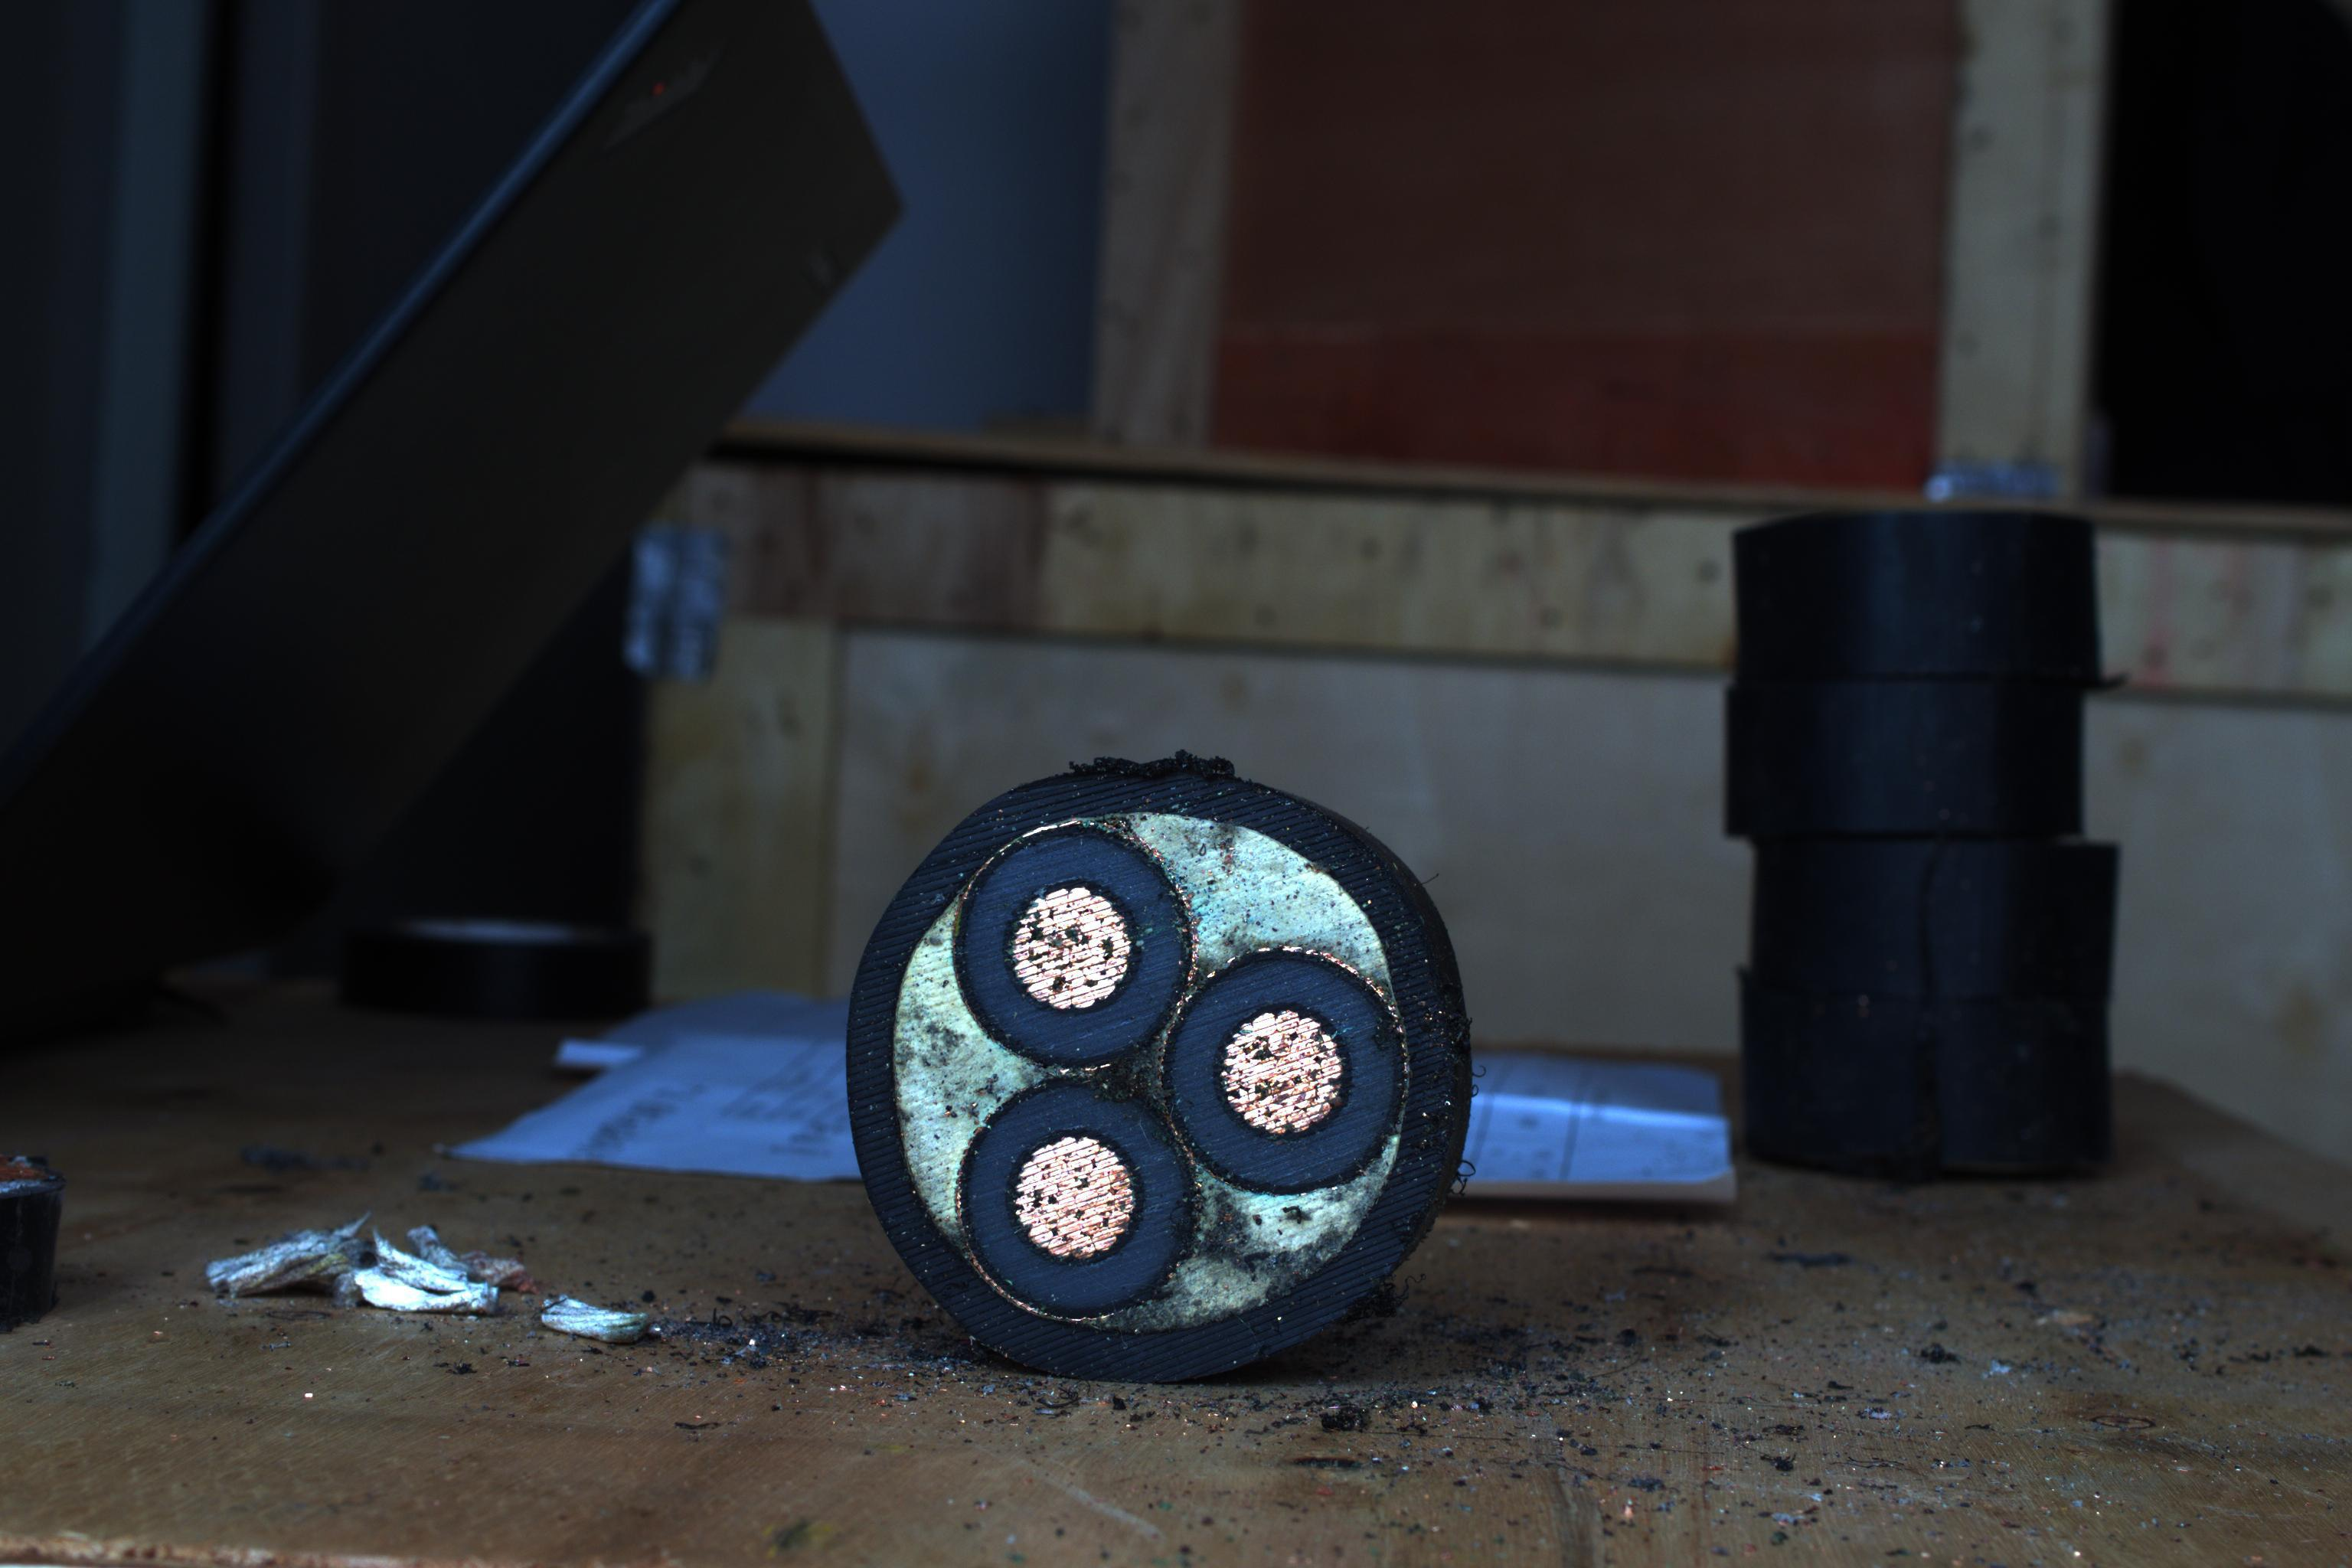ZA_YJV_8.7_10kV_3x120: (854, 786, 1433, 1346)
